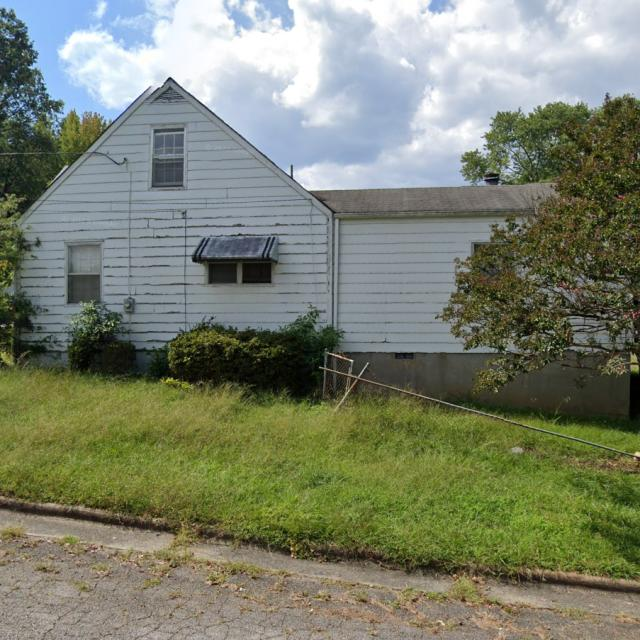House: (0, 73, 629, 423)
